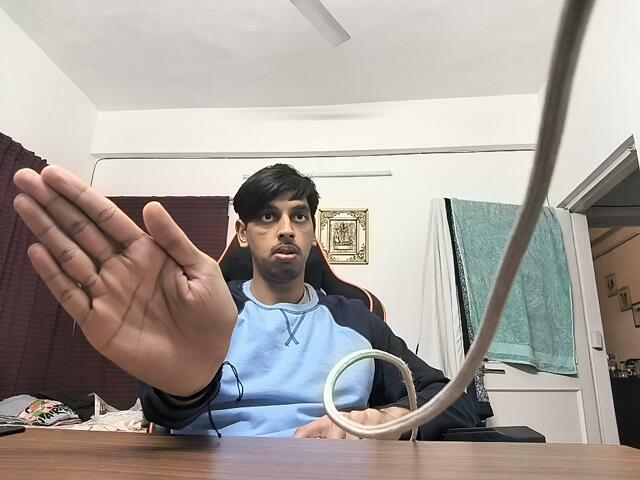STOP: (9, 148, 237, 412)
